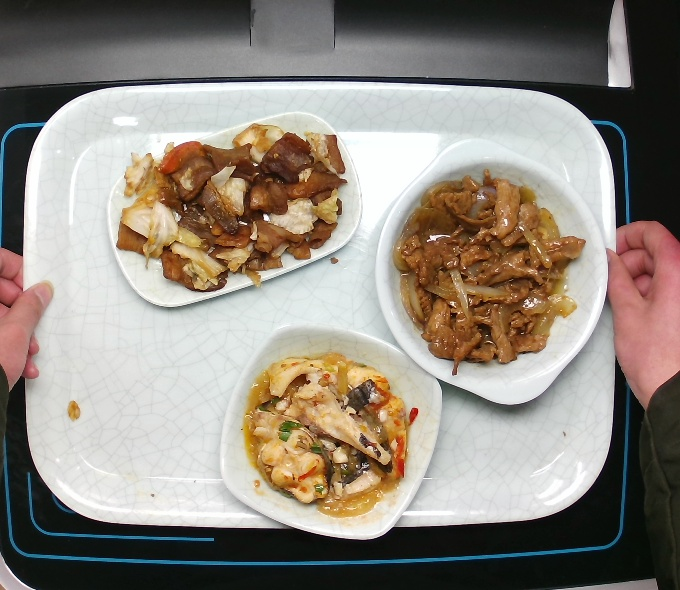wcq-DuoJiaoYuKuai: (241, 349, 409, 513)
wcq-PaoCaiRouPian: (114, 126, 349, 304)
wcq-YangCongRouPian: (383, 176, 584, 365)
